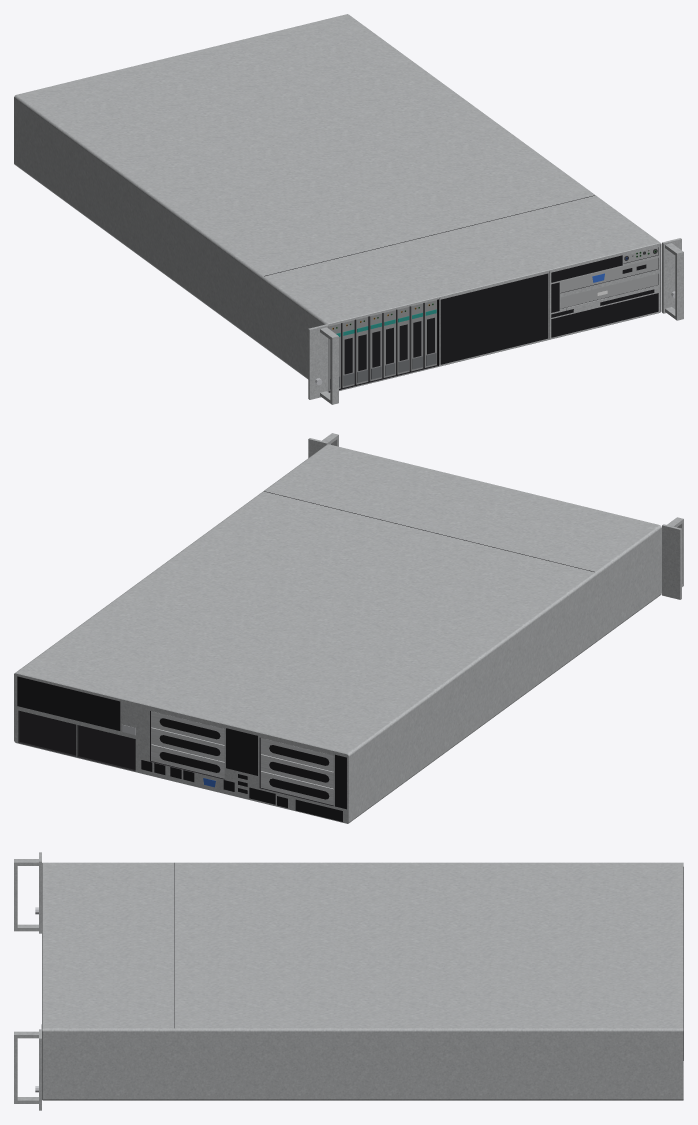
Rendered from R2208GZ4GC.far.glb.
3 renders of one model, top to bottom at view 1: azimuth 30°, elevation 25°; view 2: azimuth 150°, elevation 25°; view 3: azimuth 270°, elevation 25°, orthographic. The views are drawn at different scales.
Parts seen in each view (by area): view 1: Drive_Carriers_far; view 2: Drive_Carriers_far, empty:PSU1, empty:PSU2; view 3: Drive_Carriers_far.
Part boxes in pixels (left/top/right/bottom): Drive_Carriers_far: left=14, top=14, right=683, bottom=404; Drive_Carriers_far: left=14, top=433, right=683, bottom=823; empty:PSU1: left=19, top=711, right=76, bottom=755; empty:PSU2: left=78, top=725, right=135, bottom=769; Drive_Carriers_far: left=14, top=852, right=683, bottom=1110.
Size of the model in its own units: 0.486 by 0.0878 by 0.7391.
4 materials, 3 textured.
